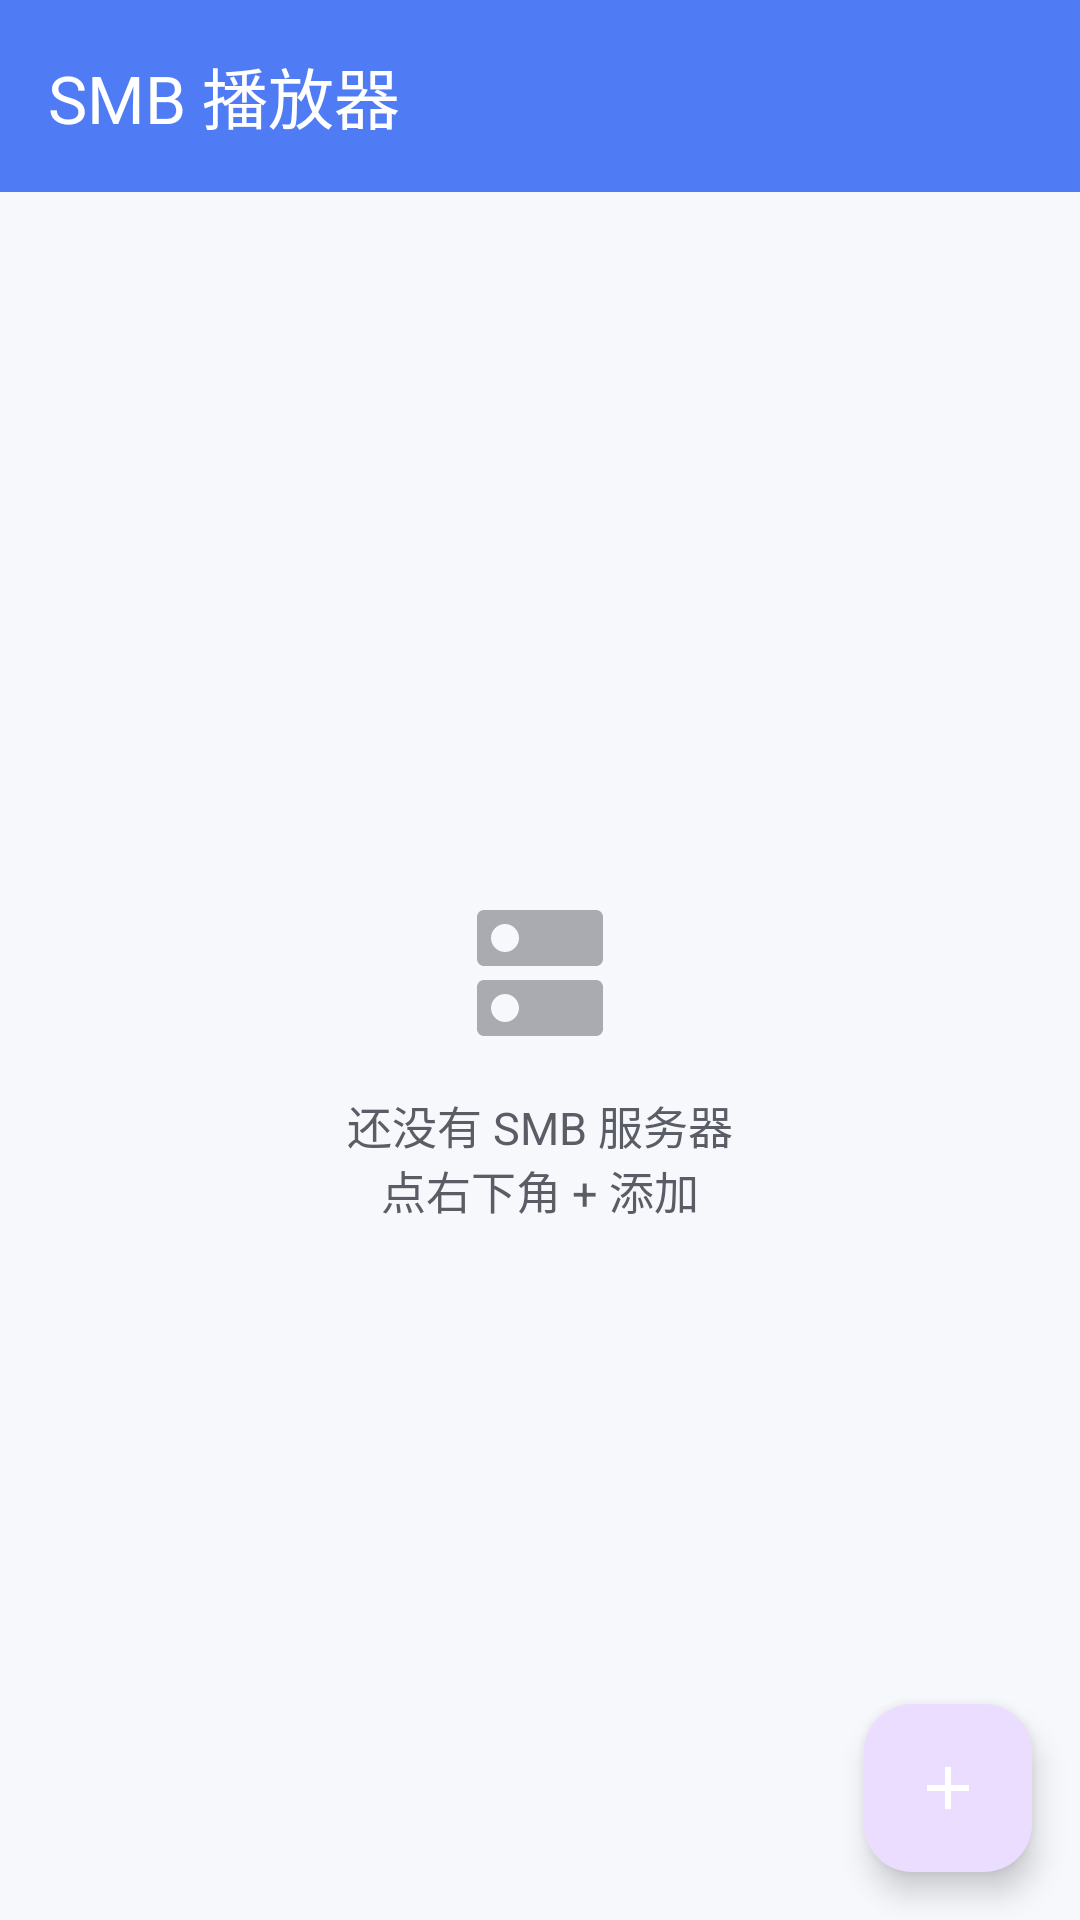

Screen size 1080 x 1920. Icon name, then its box in pixels as box=[x1, y1, x2, y2]:
添加服务器: box=[864, 1704, 1032, 1872]
